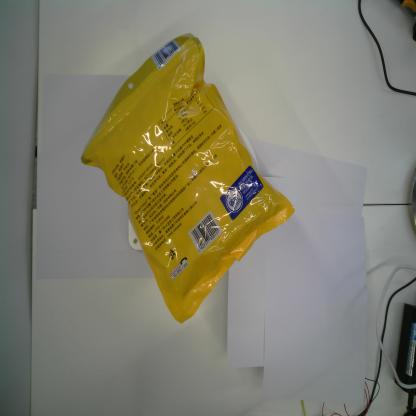Dried Food: (80, 31, 296, 324)
